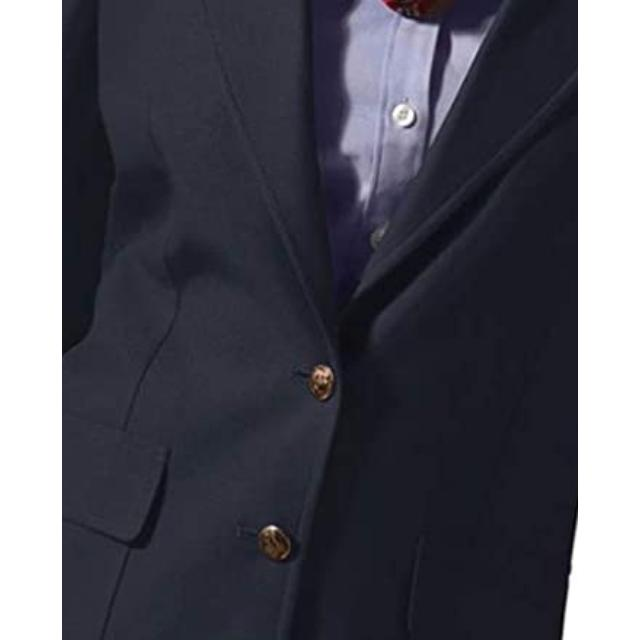polyester: (62, 215, 578, 640)
